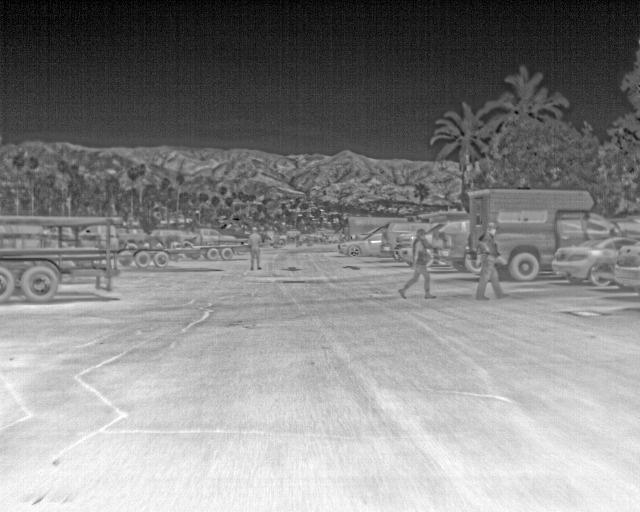bicycle: (552, 236, 639, 287), (434, 234, 479, 274), (385, 220, 424, 264), (610, 242, 639, 294), (338, 232, 381, 259)
empty: (396, 228, 438, 299), (472, 223, 507, 304), (245, 226, 264, 271)
